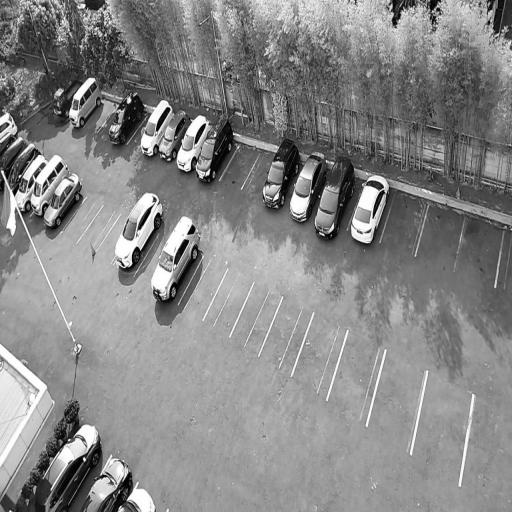Car: (35, 414, 109, 512), (145, 210, 207, 307), (109, 184, 169, 275), (308, 149, 361, 245), (74, 448, 137, 512), (346, 167, 396, 247), (257, 133, 305, 214), (284, 147, 332, 228), (190, 109, 239, 186), (28, 150, 73, 219), (39, 168, 86, 234), (171, 108, 214, 175), (104, 86, 148, 146), (137, 97, 176, 161), (65, 71, 106, 130), (155, 105, 193, 165), (13, 153, 50, 212), (4, 142, 42, 199), (112, 478, 161, 512), (51, 72, 85, 121), (0, 135, 29, 189), (0, 107, 21, 138), (0, 131, 17, 158)
Space Available: (412, 370, 474, 484), (367, 349, 427, 454), (328, 329, 386, 425), (291, 312, 348, 398), (258, 296, 314, 375), (229, 282, 283, 355), (454, 216, 505, 286), (203, 268, 254, 337), (414, 203, 465, 272), (379, 189, 429, 256), (178, 255, 228, 320), (77, 204, 120, 252), (61, 195, 103, 243), (220, 143, 260, 188), (134, 232, 168, 283), (94, 215, 126, 262), (241, 152, 274, 196), (84, 98, 119, 132), (495, 229, 512, 292), (126, 112, 152, 147), (97, 102, 118, 136)
